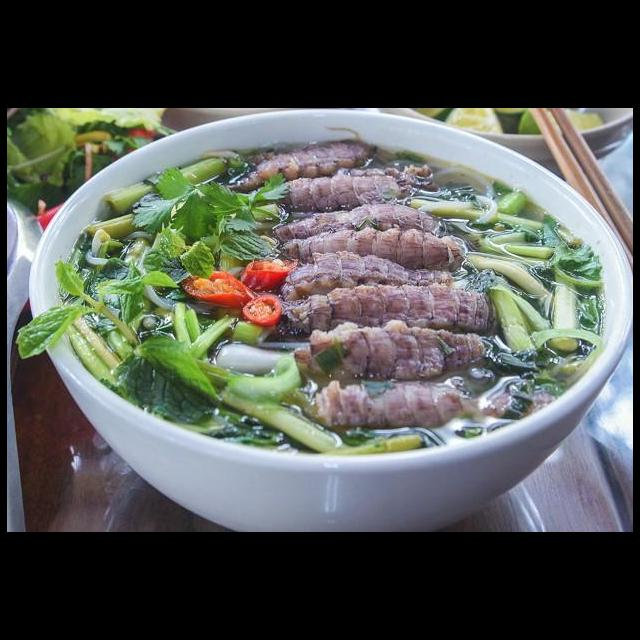tom tit: (265, 278, 506, 346), (286, 315, 495, 388), (298, 373, 560, 431), (271, 247, 473, 308), (274, 223, 473, 283), (263, 197, 457, 252), (228, 135, 386, 195), (248, 168, 415, 218)
